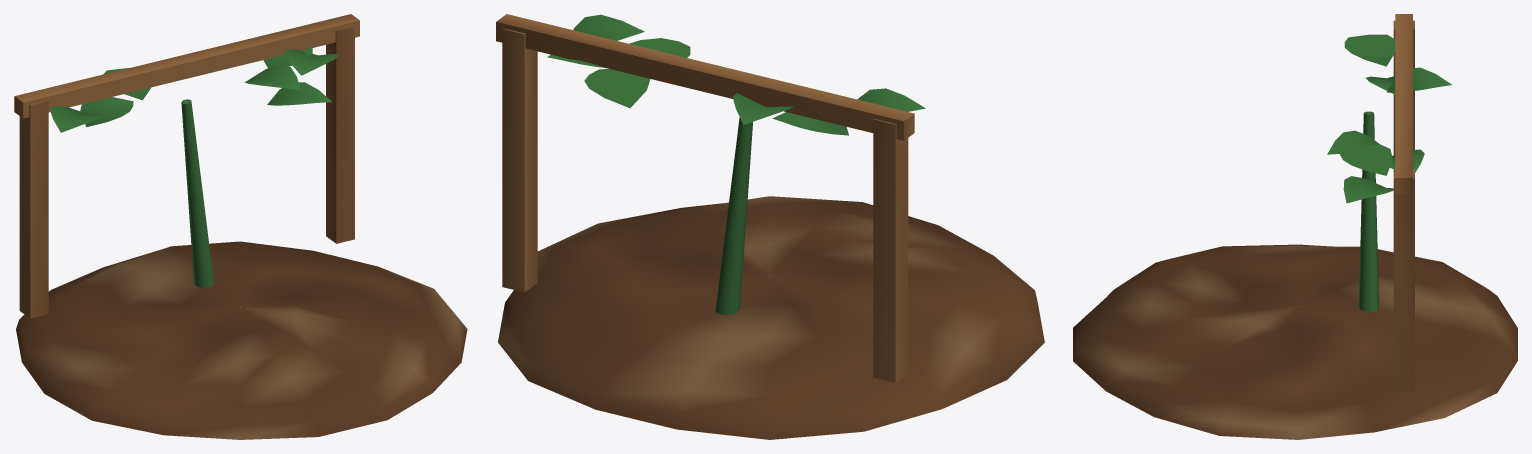
File: plant-grape-1.gltf
3 renders of one model, left to right at view 1: azimuth 30°, elevation 25°; view 2: azimuth 150°, elevation 25°; view 3: azimuth 270°, elevation 25°, orthographic. The views are drawn at different scales.
Size of the model in its own units: 1.28 by 0.7767 by 1.26.
